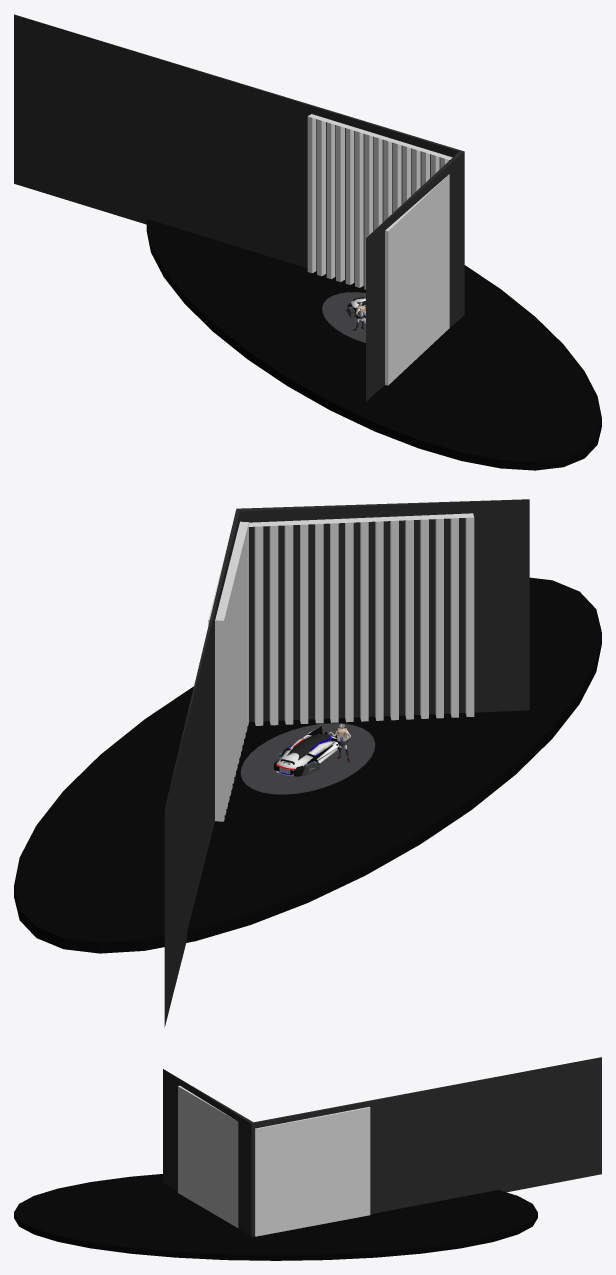
The model's file is title_2.fbx.
3 renders of one model, top to bottom at view 1: azimuth 30°, elevation 25°; view 2: azimuth 150°, elevation 25°; view 3: azimuth 270°, elevation 25°, orthographic. The views are drawn at different scales.
Visible parts, largest first — view 1: 立方体.028, 円柱, 立方体.029, 立方体.031, 円柱.005; view 2: 円柱, 立方体.028, 立方体.031, 立方体.029, 円柱.005; view 3: 立方体.028, 円柱, 立方体.029, 立方体.031.
Boxes of the visible parts, x1,y1,x2,y2 form: 立方体.028: [14, 14, 464, 401]; 円柱: [146, 219, 601, 470]; 立方体.029: [307, 114, 452, 289]; 立方体.031: [385, 174, 449, 385]; 円柱.005: [322, 292, 365, 342]; 円柱: [14, 577, 601, 953]; 立方体.028: [164, 499, 529, 1027]; 立方体.031: [247, 513, 474, 726]; 立方体.029: [208, 521, 248, 821]; 円柱.005: [240, 723, 375, 794]; 立方体.028: [163, 1057, 601, 1236]; 円柱: [14, 1174, 537, 1260]; 立方体.029: [255, 1107, 370, 1236]; 立方体.031: [178, 1085, 238, 1227].
Bounding box in the file's own units: 1484 × 965 × 4317.
46 materials, 1 textured.
